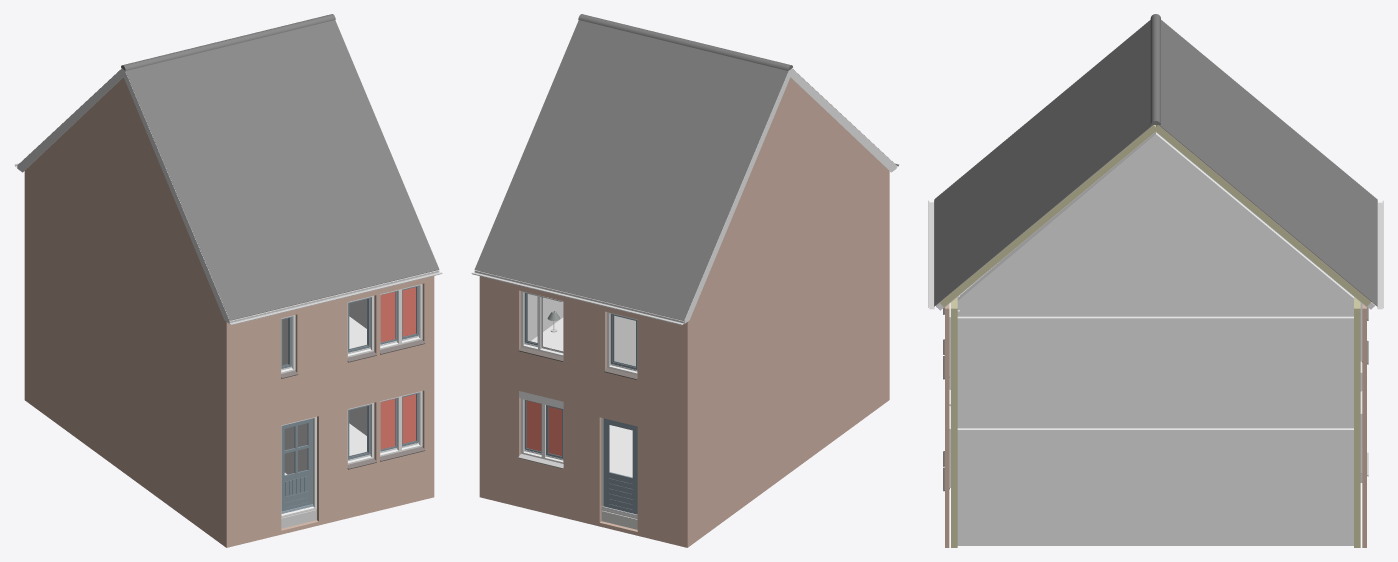
File: Woonconnect_1_2020_6_17.glb
3 views of the same model, side by side, from view 1: azimuth 30°, elevation 25°; view 2: azimuth 150°, elevation 25°; view 3: azimuth 270°, elevation 25° (orthographic). The views are drawn at different scales.
Visible parts, largest first — view 1: product-309c610f-a73e-4b99-9ee7-05c6840360d5-body, product-892513d9-93ab-4012-9484-ed84555de694-body, product-4f0c2e6f-2911-4169-ba23-5472c7567679-body, product-80d0c9a1-83ed-4e5a-9348-a07ba106c659-body, product-f013e7b1-231b-4e2f-82f4-63894313d50e-body, product-7e82f252-0dae-4412-9806-ccc1b0ea928e-body, product-c2487861-9c7a-45a6-8b65-ad56e9fef59c-body, product-7741ce5c-31a6-4351-bcf6-8ee3e5d9841c-body, product-ee410982-aa60-4b3d-8f44-7921c5500a28-body, product-df98ae58-4cc0-4363-b4af-2ee7a48e8f18-body, product-9a115669-3c18-4838-9a75-1d3403f5d3ad-body, product-deb4edfd-e378-4202-8b86-72bd3ad189fe-body (+8 smaller); view 2: product-8f747f59-f48d-471f-b44a-e79c8bbfdeb5-body, product-892513d9-93ab-4012-9484-ed84555de694-body, product-4f0c2e6f-2911-4169-ba23-5472c7567679-body, product-c9e4b343-46d4-4fbc-953c-42fc2c24d6d3-body, product-80d0c9a1-83ed-4e5a-9348-a07ba106c659-body, product-40484b0a-b25a-48af-9dab-47755467fde0-body, product-75b1bc31-b82c-4cd7-bd5b-d8e9f553c2fe-body, product-1bf40db8-110f-4677-8b10-1eb03245f4f4-body, product-49ddbd89-d1e0-48bb-94a3-9015dd4d3c04-body, product-9a115669-3c18-4838-9a75-1d3403f5d3ad-body, product-cc79e31e-110a-462c-9d29-1d562ecf1f39-body, product-deb4edfd-e378-4202-8b86-72bd3ad189fe-body (+8 smaller); view 3: product-79b431e7-8cea-4c51-b51d-66adb377c757-body, product-12cb8973-ce60-4231-803a-a851d48d1a0f-body, product-636b8292-c2aa-4bf2-a7a3-2be4ea7b936f-body, product-8f747f59-f48d-471f-b44a-e79c8bbfdeb5-body, product-309c610f-a73e-4b99-9ee7-05c6840360d5-body, product-82ff6967-7838-401c-8788-f43e16703b94-body, product-5df8cdae-2ca5-41dd-8e05-d227eebe5f2c-body, product-c2487861-9c7a-45a6-8b65-ad56e9fef59c-body, product-b70ff8eb-1a12-4d35-acc0-56a5ca2a5108-body, product-64e02cb2-20ca-4e49-a084-b242b62ee5b5-body, product-75b1bc31-b82c-4cd7-bd5b-d8e9f553c2fe-body, product-9a115669-3c18-4838-9a75-1d3403f5d3ad-body (+11 smaller).
Boxes of the visible parts, x1,y1,x2,y2 form: product-309c610f-a73e-4b99-9ee7-05c6840360d5-body: (142, 20, 439, 316); product-892513d9-93ab-4012-9484-ed84555de694-body: (26, 279, 230, 547); product-4f0c2e6f-2911-4169-ba23-5472c7567679-body: (26, 172, 230, 425); product-80d0c9a1-83ed-4e5a-9348-a07ba106c659-body: (25, 77, 221, 314); product-f013e7b1-231b-4e2f-82f4-63894313d50e-body: (237, 375, 434, 545); product-7e82f252-0dae-4412-9806-ccc1b0ea928e-body: (237, 276, 434, 422); product-c2487861-9c7a-45a6-8b65-ad56e9fef59c-body: (125, 67, 245, 320); product-7741ce5c-31a6-4351-bcf6-8ee3e5d9841c-body: (281, 416, 316, 517); product-ee410982-aa60-4b3d-8f44-7921c5500a28-body: (380, 284, 422, 349); product-df98ae58-4cc0-4363-b4af-2ee7a48e8f18-body: (380, 391, 422, 456); product-9a115669-3c18-4838-9a75-1d3403f5d3ad-body: (136, 14, 335, 67); product-deb4edfd-e378-4202-8b86-72bd3ad189fe-body: (123, 69, 229, 323); product-8f747f59-f48d-471f-b44a-e79c8bbfdeb5-body: (474, 20, 775, 317); product-892513d9-93ab-4012-9484-ed84555de694-body: (689, 278, 889, 545); product-4f0c2e6f-2911-4169-ba23-5472c7567679-body: (689, 171, 889, 423); product-c9e4b343-46d4-4fbc-953c-42fc2c24d6d3-body: (479, 375, 689, 547); product-80d0c9a1-83ed-4e5a-9348-a07ba106c659-body: (692, 78, 888, 314); product-40484b0a-b25a-48af-9dab-47755467fde0-body: (479, 271, 689, 425); product-75b1bc31-b82c-4cd7-bd5b-d8e9f553c2fe-body: (672, 68, 788, 320); product-1bf40db8-110f-4677-8b10-1eb03245f4f4-body: (521, 398, 563, 463); product-49ddbd89-d1e0-48bb-94a3-9015dd4d3c04-body: (601, 418, 637, 518); product-9a115669-3c18-4838-9a75-1d3403f5d3ad-body: (578, 14, 778, 67); product-cc79e31e-110a-462c-9d29-1d562ecf1f39-body: (684, 69, 790, 323); product-deb4edfd-e378-4202-8b86-72bd3ad189fe-body: (790, 68, 896, 172); product-79b431e7-8cea-4c51-b51d-66adb377c757-body: (957, 316, 1353, 428); product-12cb8973-ce60-4231-803a-a851d48d1a0f-body: (957, 428, 1353, 539); product-636b8292-c2aa-4bf2-a7a3-2be4ea7b936f-body: (957, 132, 1353, 310); product-8f747f59-f48d-471f-b44a-e79c8bbfdeb5-body: (1159, 26, 1377, 306); product-309c610f-a73e-4b99-9ee7-05c6840360d5-body: (934, 28, 1152, 306); product-82ff6967-7838-401c-8788-f43e16703b94-body: (957, 310, 1353, 316); product-5df8cdae-2ca5-41dd-8e05-d227eebe5f2c-body: (957, 541, 1353, 545); product-c2487861-9c7a-45a6-8b65-ad56e9fef59c-body: (934, 20, 1150, 207); product-b70ff8eb-1a12-4d35-acc0-56a5ca2a5108-body: (940, 125, 1157, 306); product-64e02cb2-20ca-4e49-a084-b242b62ee5b5-body: (1154, 125, 1370, 306); product-75b1bc31-b82c-4cd7-bd5b-d8e9f553c2fe-body: (1161, 20, 1377, 205); product-9a115669-3c18-4838-9a75-1d3403f5d3ad-body: (1150, 20, 1160, 124).
Size of what is drawn, in the model's own units: 5.85 by 10.7 by 10.35.
